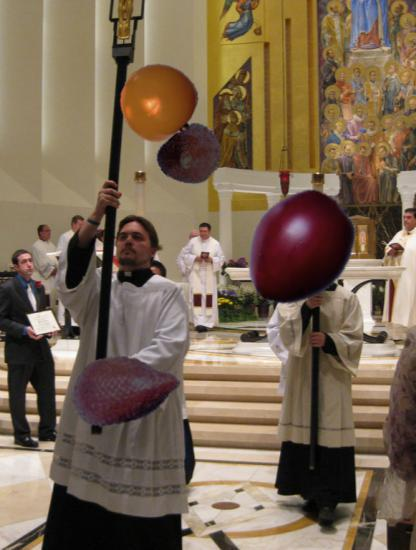Salak: (69, 332, 183, 446), (160, 124, 224, 188)
Tamarillo: (237, 180, 368, 311)
Tomato: (117, 61, 199, 143)
